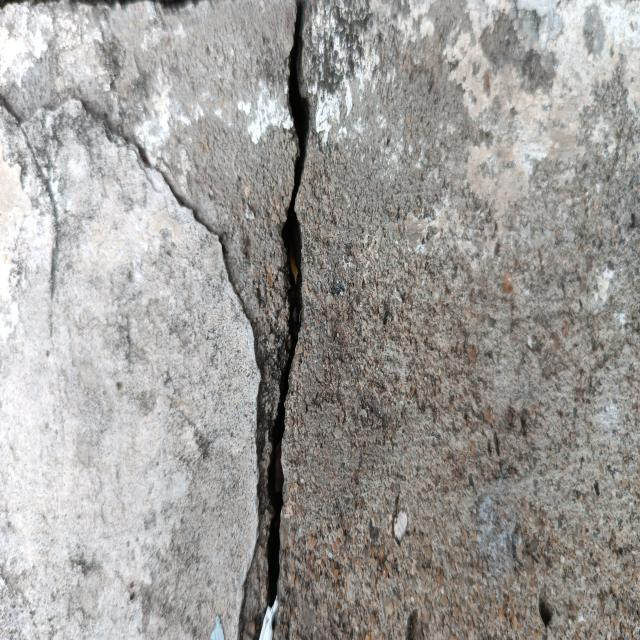vertical cracks: (267, 0, 308, 607)
